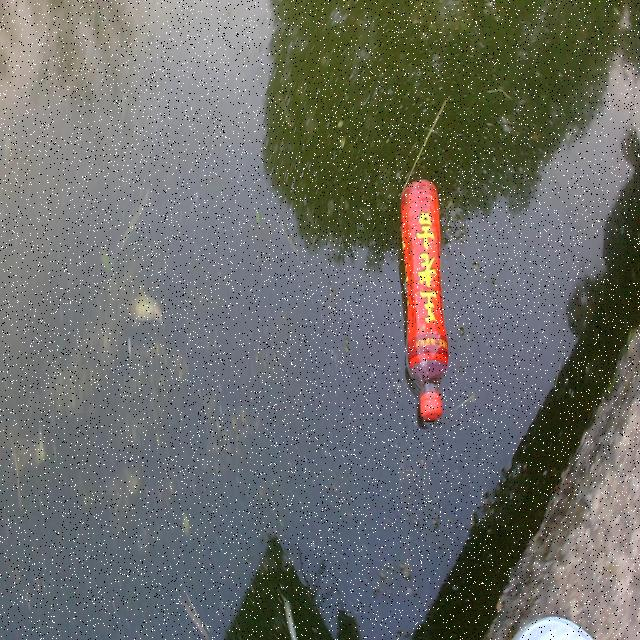Bottle: (398, 178, 452, 426)
